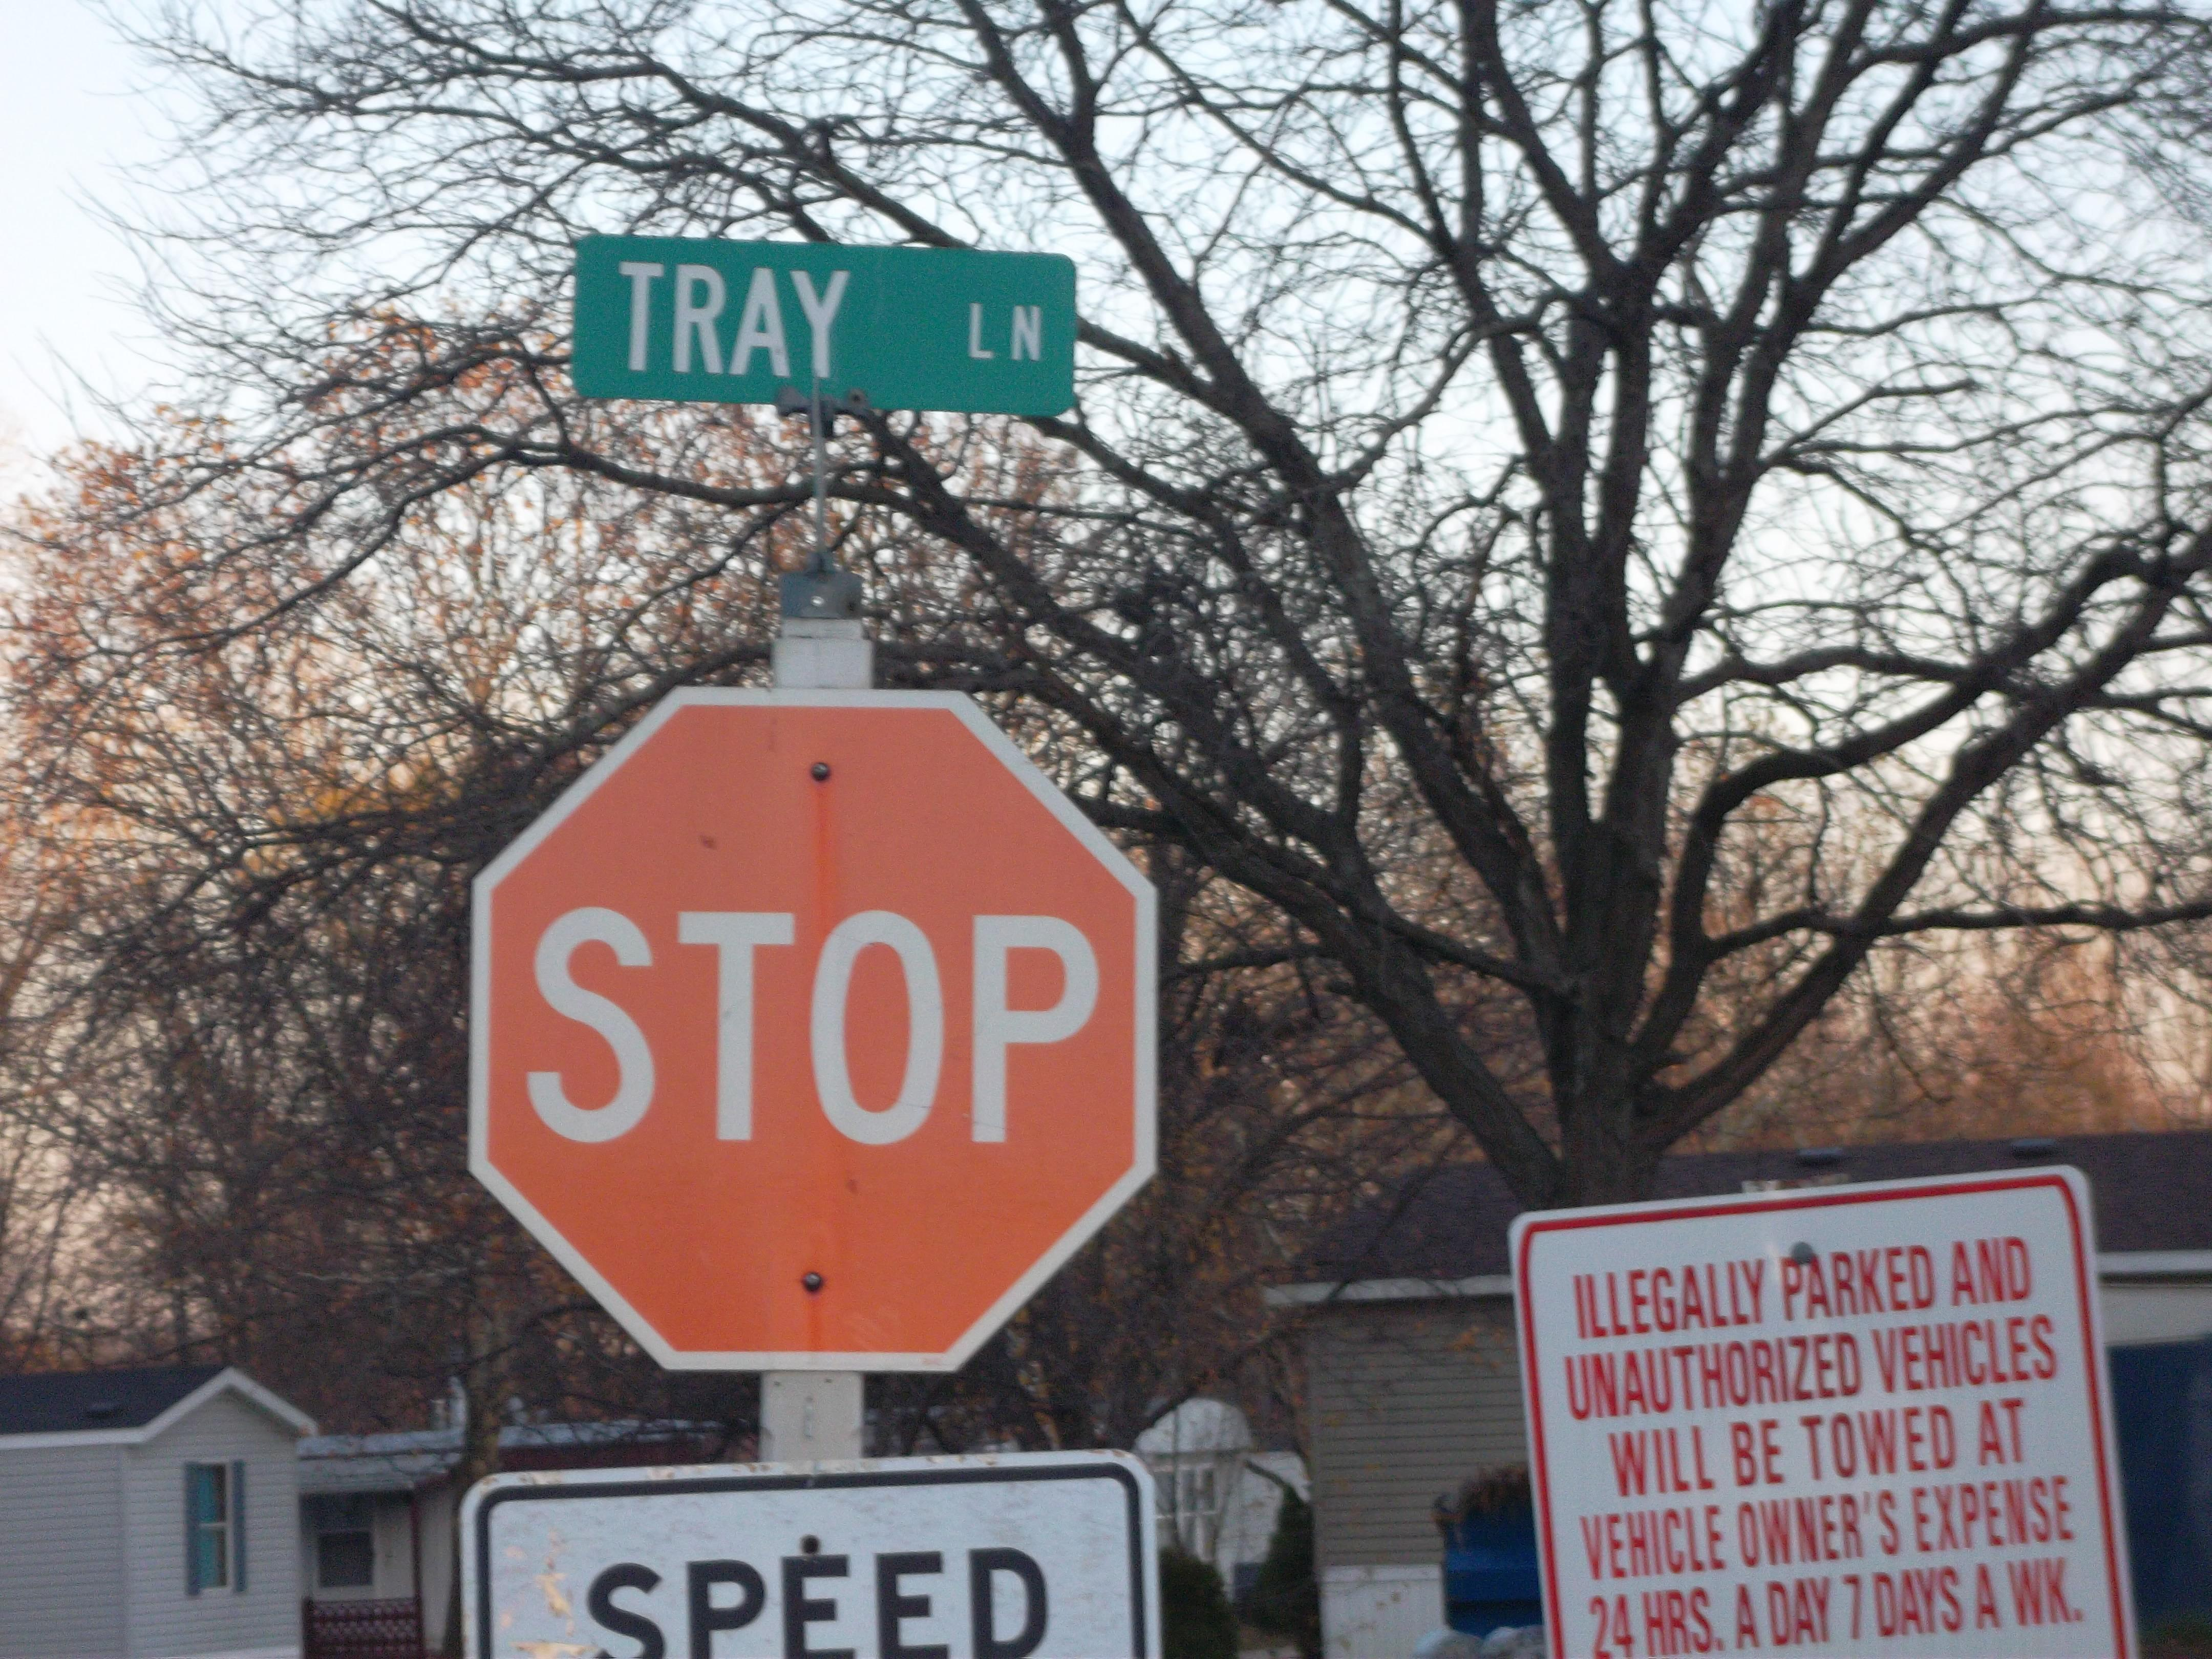regulatory: (449, 1441, 1165, 1659)
stop: (448, 683, 1170, 1368)
